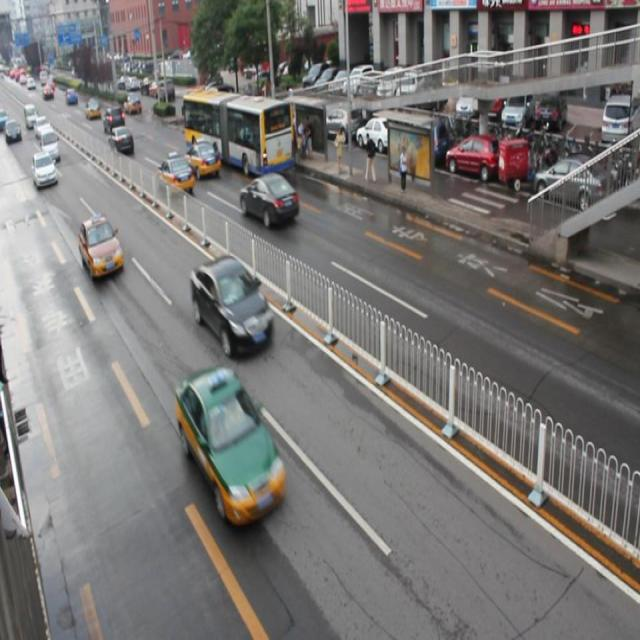car: (175, 366, 284, 526), (189, 254, 273, 359), (239, 174, 298, 225), (79, 214, 124, 280), (185, 136, 220, 180), (157, 152, 194, 193), (32, 152, 58, 188), (109, 127, 134, 154)
van: (184, 87, 292, 177)
